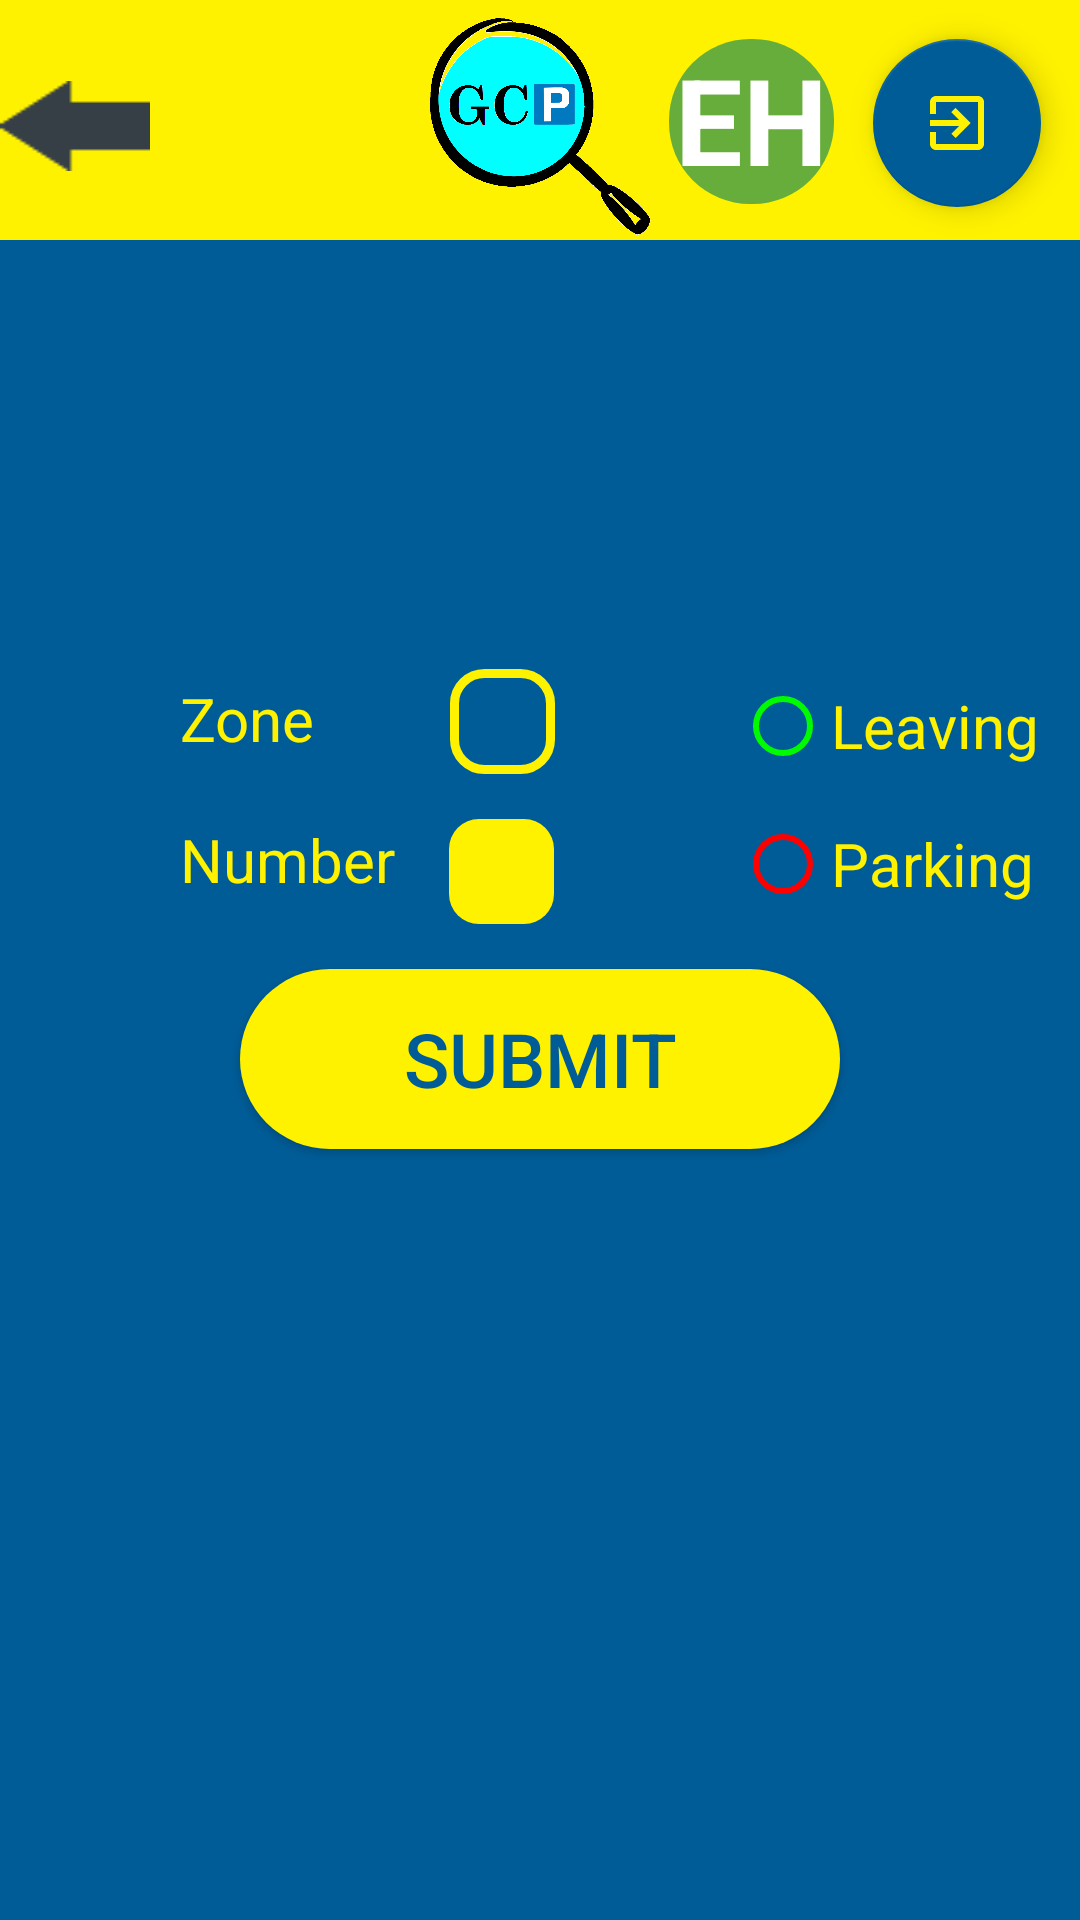

Icons on this 1080*1920 Android screen, each with the point to tap as (x,y):
back: (75,126)
exit: (957,123)
